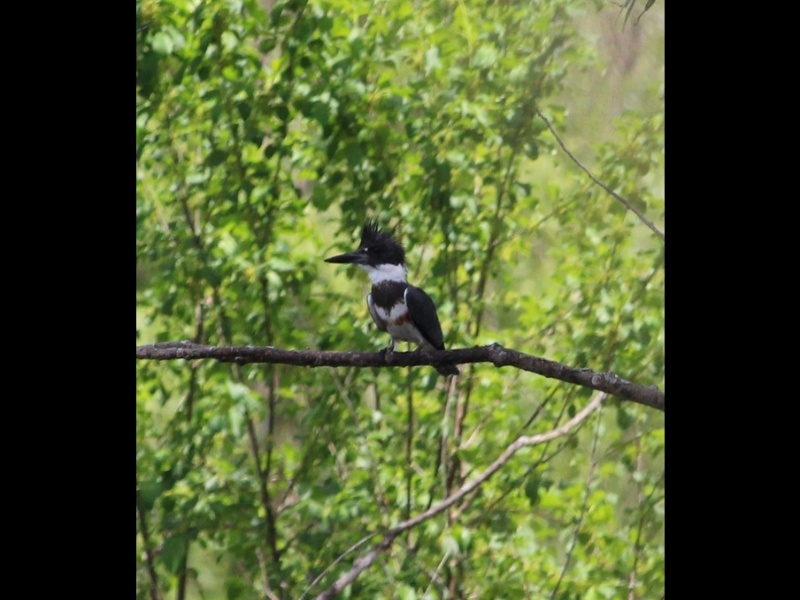kingfisher: (325, 220, 455, 376)
